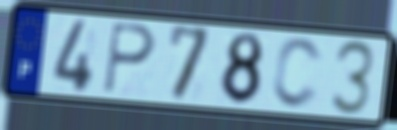3: (329, 37, 377, 119)
4: (51, 17, 96, 95)
7: (168, 22, 213, 104)
8: (217, 30, 264, 108)
C: (270, 35, 326, 112)
P: (102, 19, 158, 96)
